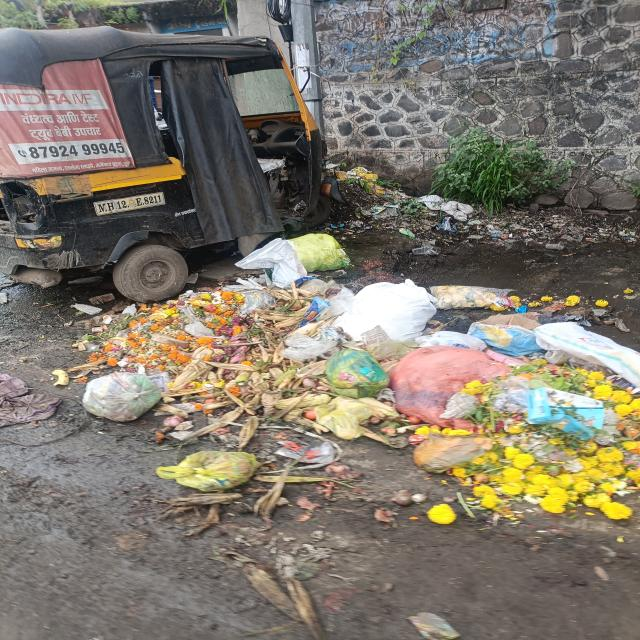garbage: (101, 274, 640, 525)
